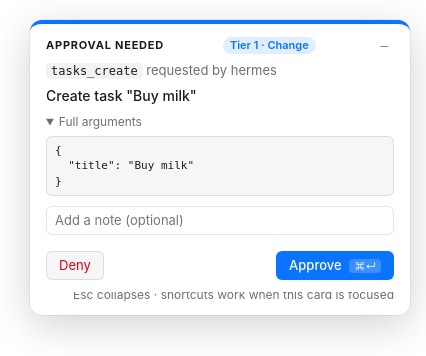
Scenario: ApprovalCard › Esc collapses to a badge and never denies
The image size is (426, 356).
Press Escape in the field labelled "note (optional)", box 46,206 -> 394,235
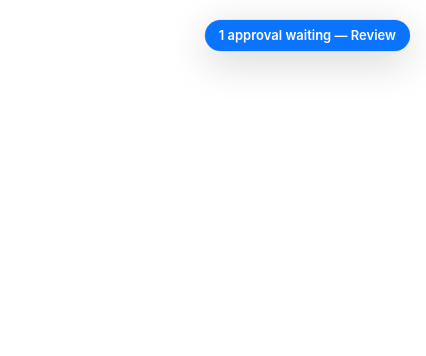
Now the element with test id "approval-card" is gone
Click the button with test id "approval-badge".
click(307, 35)  # box 205,20 -> 410,51
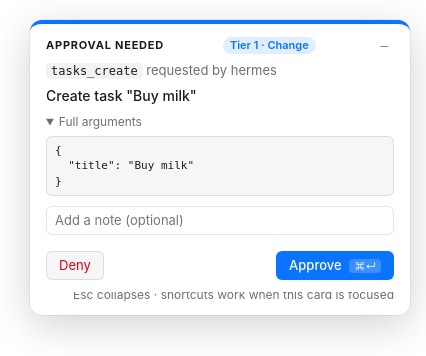
Now the element with test id "approval-card" is shown
